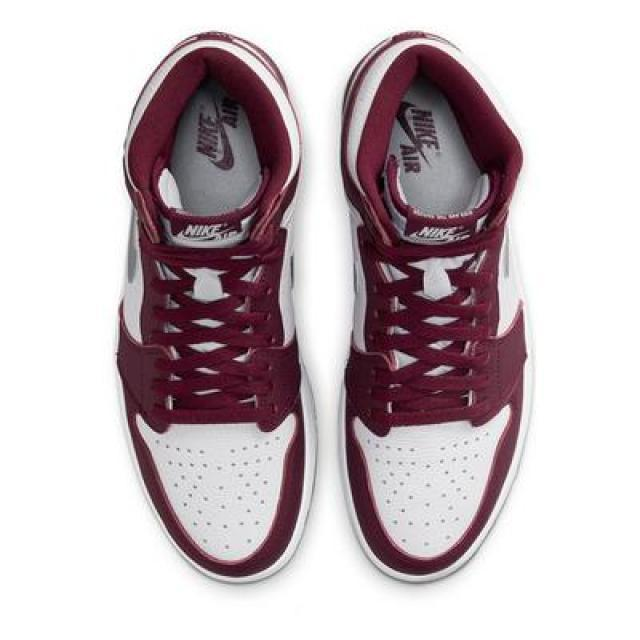J1_InsoleChar: (111, 25, 536, 588)
J1_MateComp: (114, 29, 316, 584), (337, 28, 531, 584)
J1_ShoeLogo: (193, 92, 240, 170), (394, 99, 440, 174)
J1_StitchPattern: (138, 225, 499, 420), (132, 84, 291, 427), (354, 223, 499, 423), (143, 236, 282, 416), (357, 426, 497, 548), (148, 429, 288, 544), (153, 276, 266, 380)
